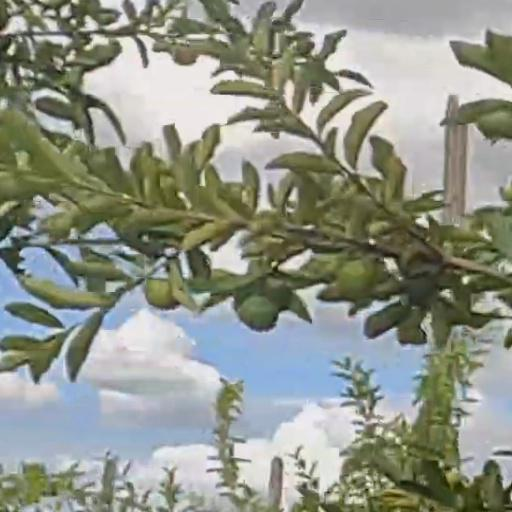acerola_verde: (337, 263, 377, 296), (239, 295, 273, 328), (146, 280, 176, 310)
